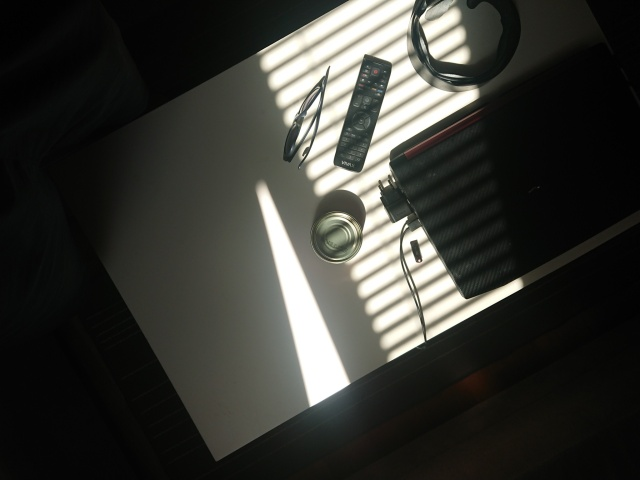Giana Tuna Salad Mexico 185g: (308, 208, 365, 266)
